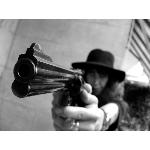Pistol: (11, 40, 87, 108)
